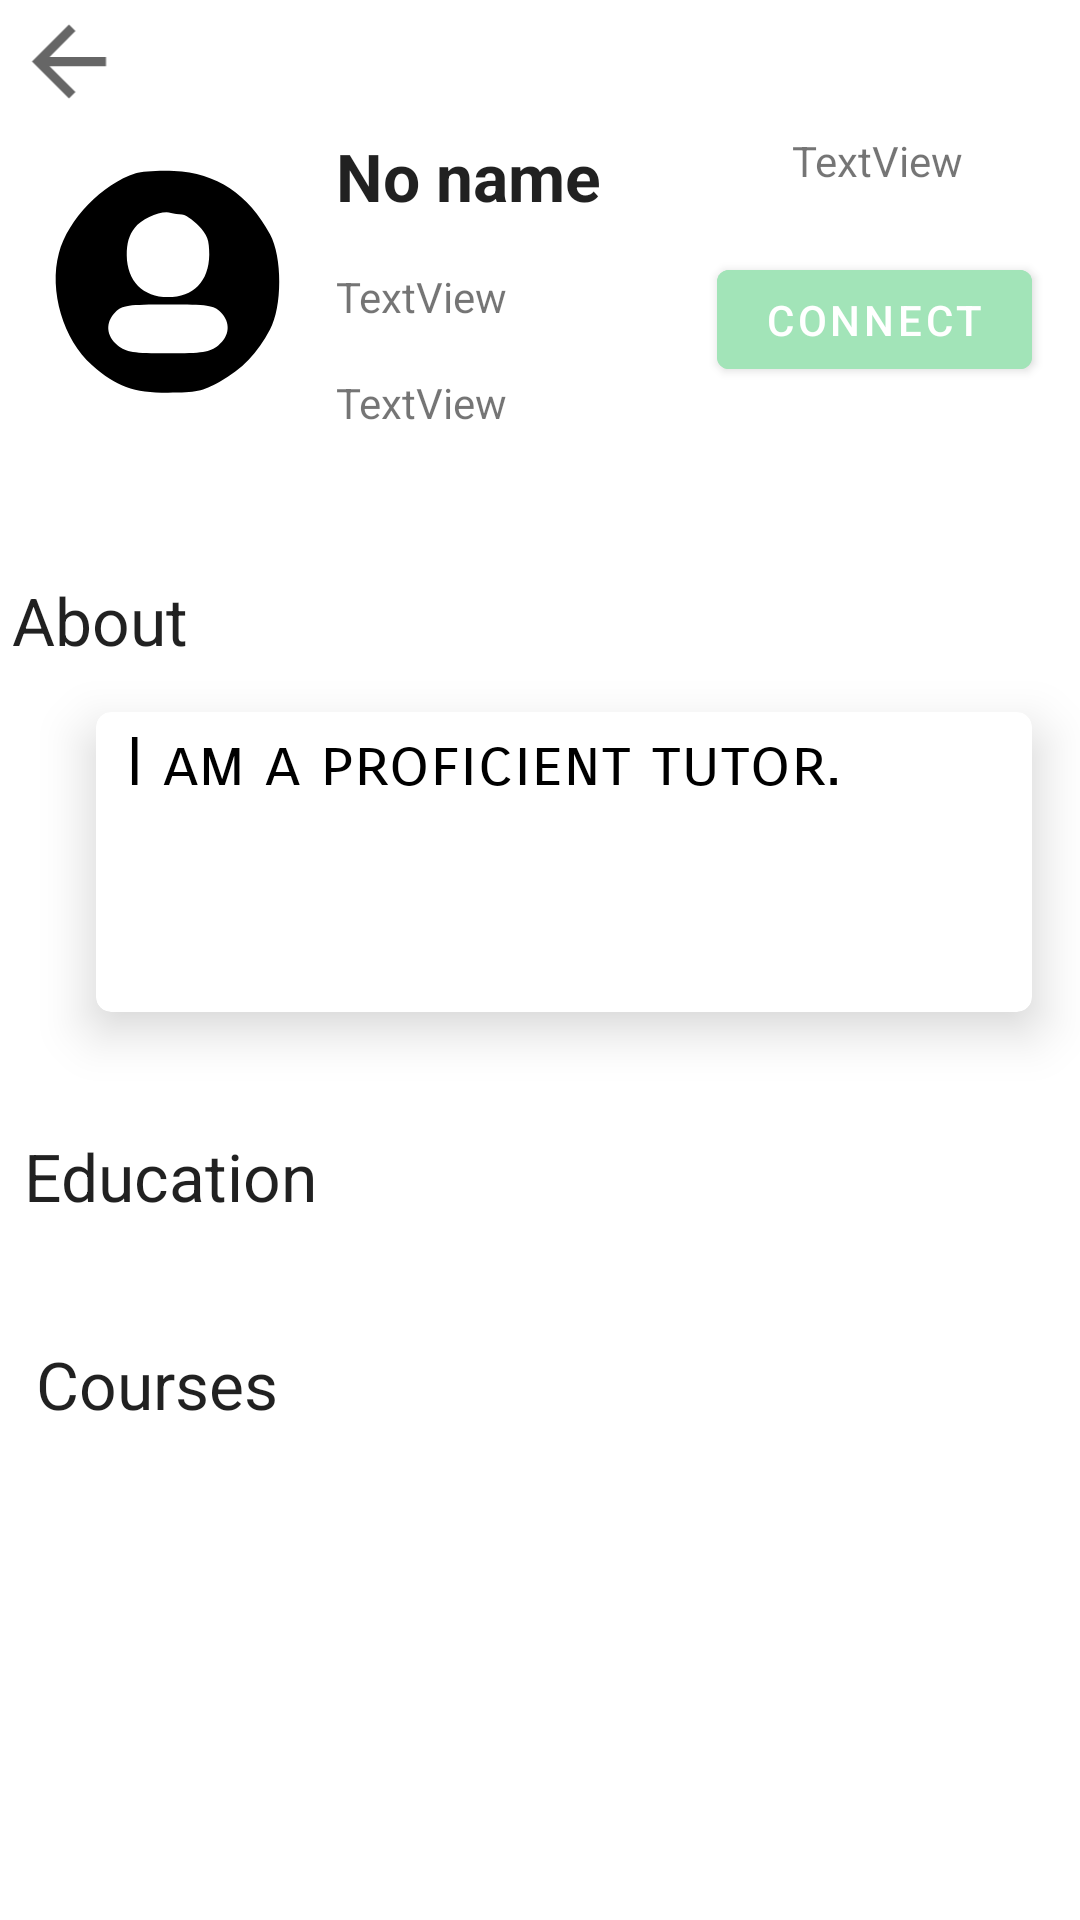

Point at icon controls on the screen. Image size 1080w x 1920h, points as point (x, y).
user: point (167, 281)
